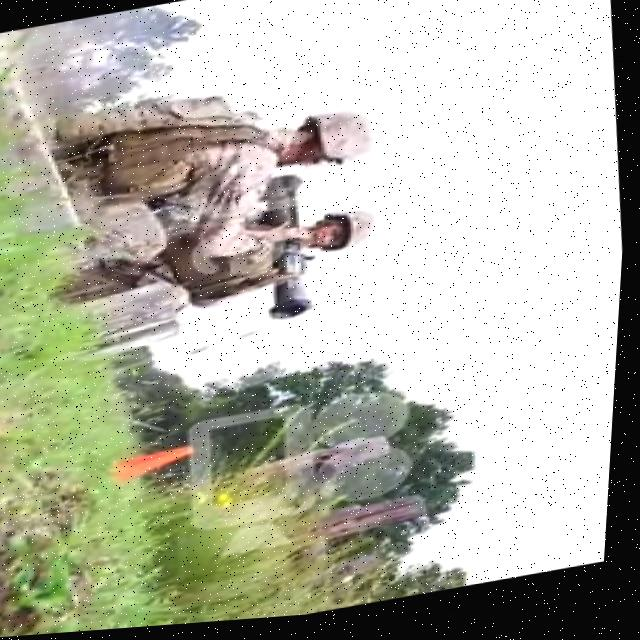rocket: (257, 176, 327, 324)
